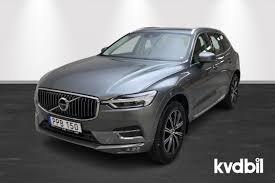license-plates: (50, 115, 82, 134)
